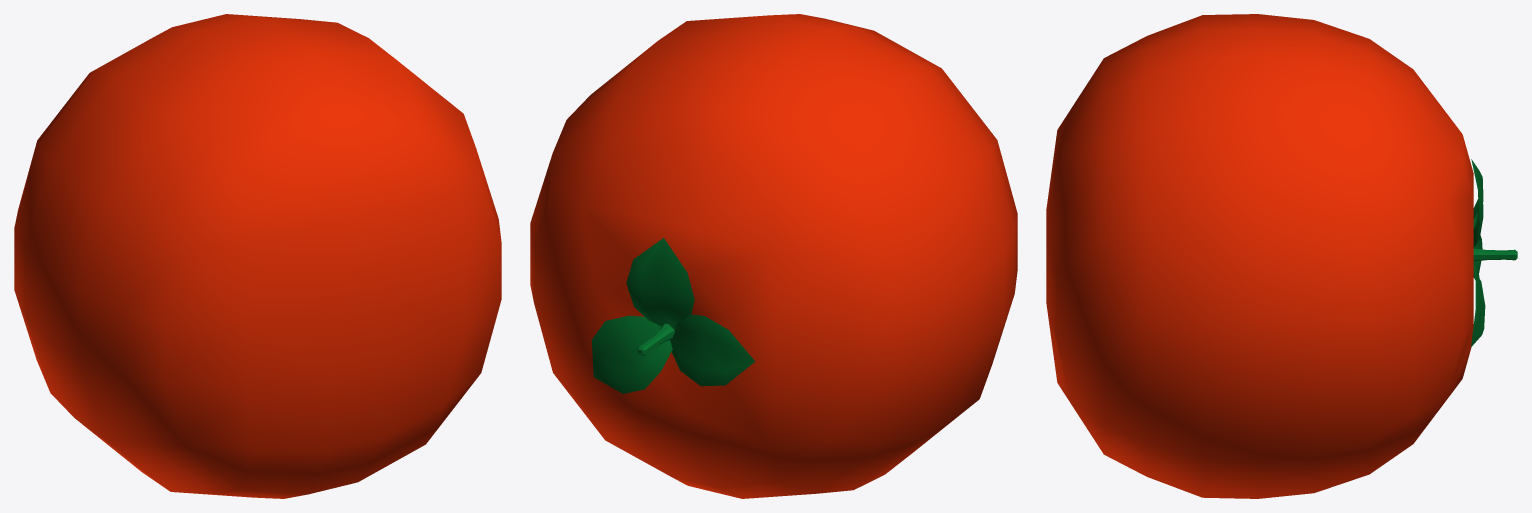
The model's file is mesh_tomato_stage00.fbx.
The picture shows the model from 3 angles, left to right: view 1: azimuth 30°, elevation 25°; view 2: azimuth 150°, elevation 25°; view 3: azimuth 270°, elevation 25°; orthographic projection.
Visible parts, largest first — view 1: mesh_tomato_stage00; view 2: mesh_tomato_stage00; view 3: mesh_tomato_stage00.
Boxes of the visible parts, left/top/right/bottom form: mesh_tomato_stage00: left=14, top=14, right=501, bottom=498; mesh_tomato_stage00: left=530, top=14, right=1017, bottom=498; mesh_tomato_stage00: left=1046, top=14, right=1517, bottom=498.
Size of the model in its own units: 0.1904 by 0.1904 by 0.1905.
